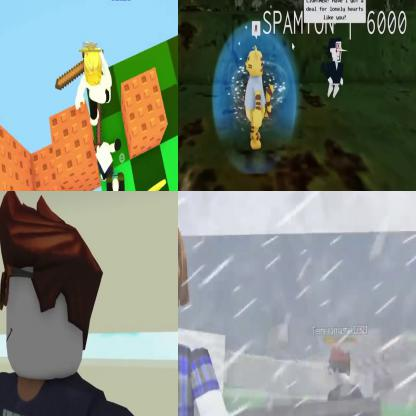Roblox-Avatar: (1, 192, 178, 416), (179, 211, 254, 416), (77, 42, 113, 126), (246, 46, 275, 150), (328, 346, 365, 402), (107, 172, 126, 191)
